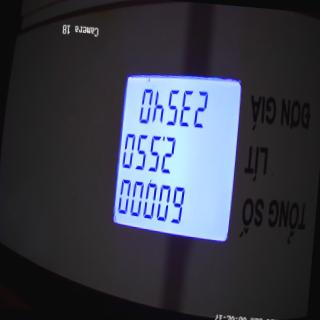screen: (105, 62, 247, 256)
